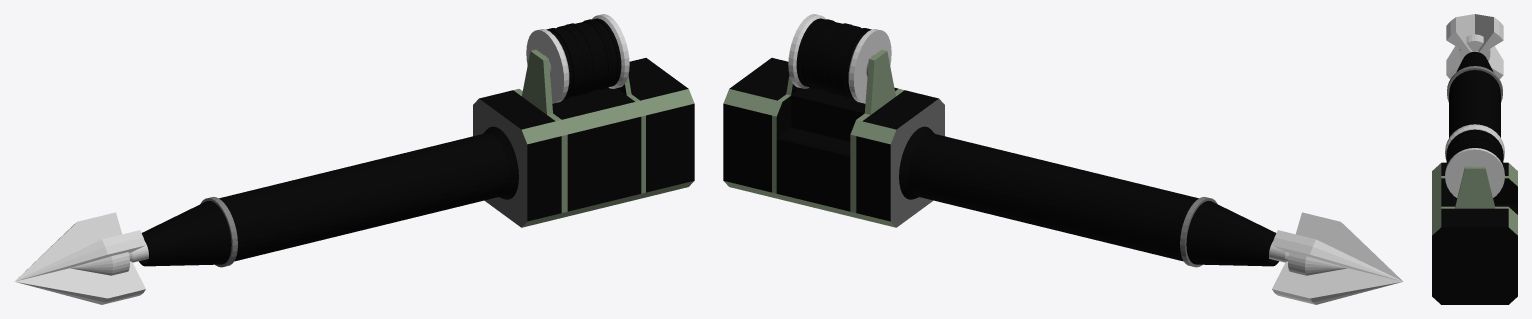
File: grapple gun.fbx
3 renders of one model, left to right at view 1: azimuth 30°, elevation 25°; view 2: azimuth 150°, elevation 25°; view 3: azimuth 270°, elevation 25°, orthographic. The views are drawn at different scales.
Visible parts, largest first — view 1: Cube, Barrel, Grapple Hook Tip, Rope Spool; view 2: Cube, Barrel, Grapple Hook Tip, Rope Spool; view 3: Cube, Barrel, Rope Spool, Grapple Hook Tip.
Boxes of the visible parts, <box> form: Cube: <box>473,49,694,227</box>; Barrel: <box>139,126,518,267</box>; Grapple Hook Tip: <box>14,212,148,304</box>; Rope Spool: <box>526,14,629,103</box>; Cube: <box>723,49,944,227</box>; Barrel: <box>899,126,1278,267</box>; Grapple Hook Tip: <box>1269,212,1403,304</box>; Rope Spool: <box>788,14,891,103</box>; Cube: <box>1432,162,1517,304</box>; Barrel: <box>1447,51,1502,137</box>; Rope Spool: <box>1445,124,1504,197</box>; Grapple Hook Tip: <box>1446,14,1503,79</box>.
Size of the model in its own units: 1732 by 427 by 249.
